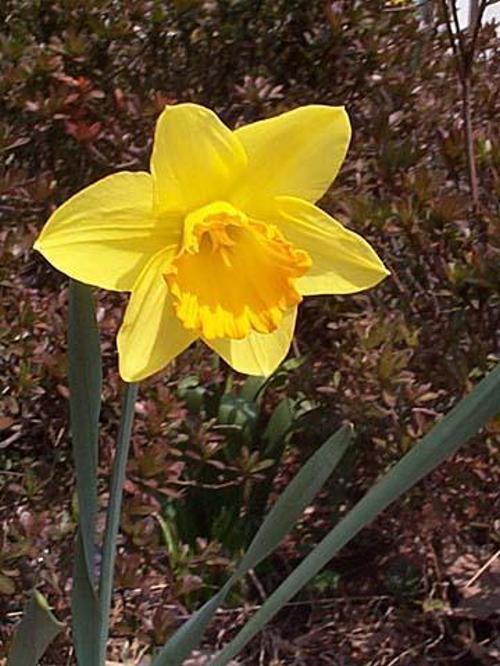flower1: (32, 104, 391, 383)
